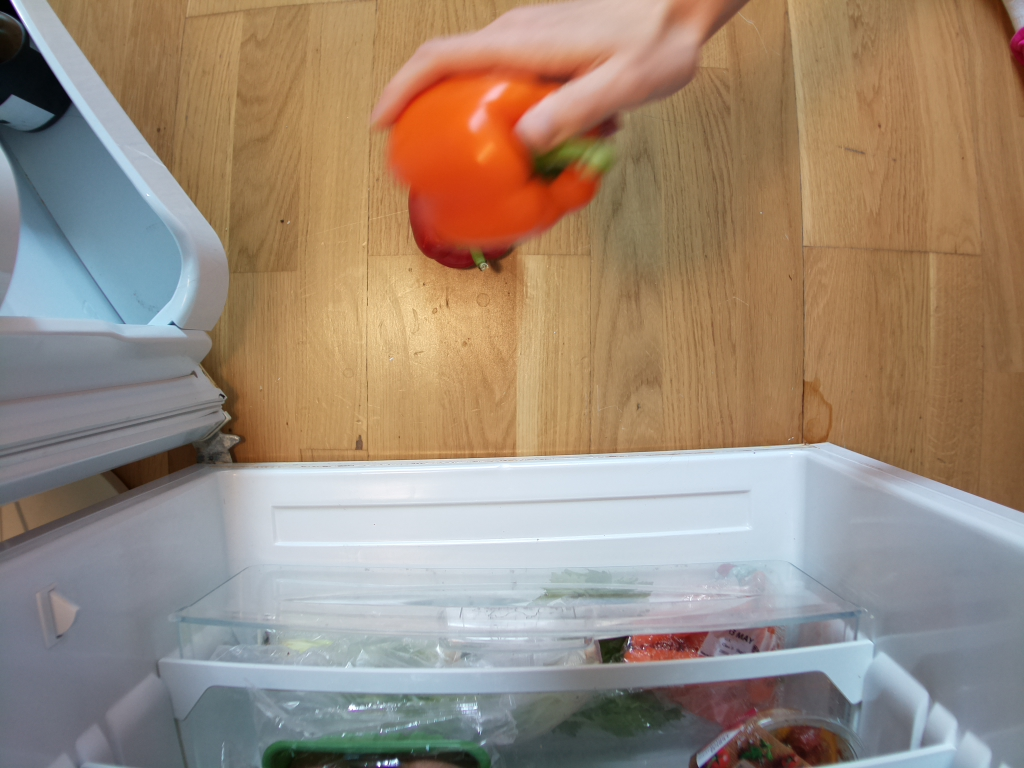pepper: (386, 74, 622, 246)
